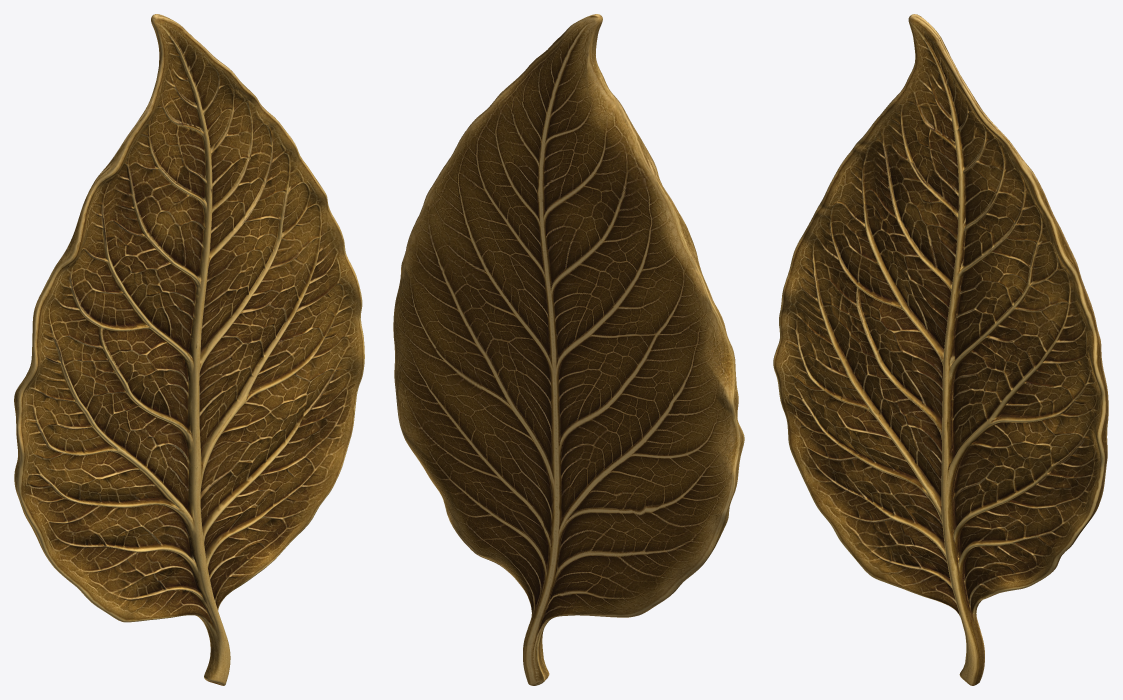
Rendered from golden-leaf.glb.
The picture shows the model from 3 angles, left to right: view 1: azimuth 30°, elevation 25°; view 2: azimuth 150°, elevation 25°; view 3: azimuth 330°, elevation 25°; orthographic projection. The views are drawn at different scales.
Size of the model in its own units: 1 by 1.9 by 0.0641.
1 material, 1 textured.
